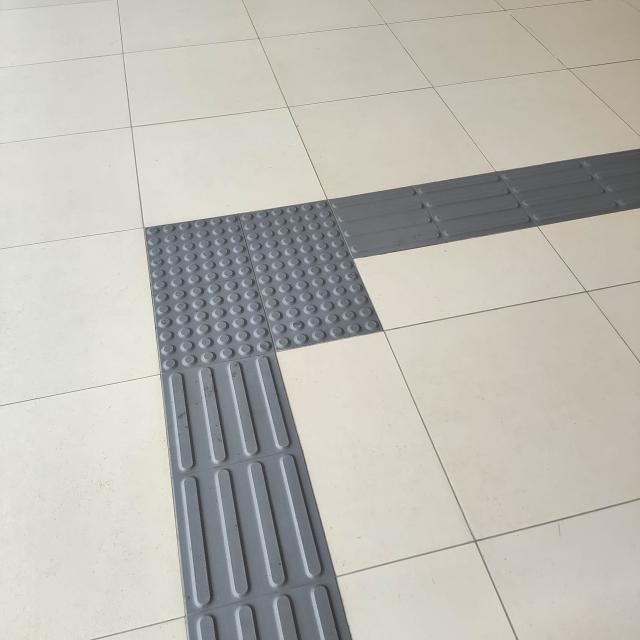kanan: (101, 175, 543, 419)
